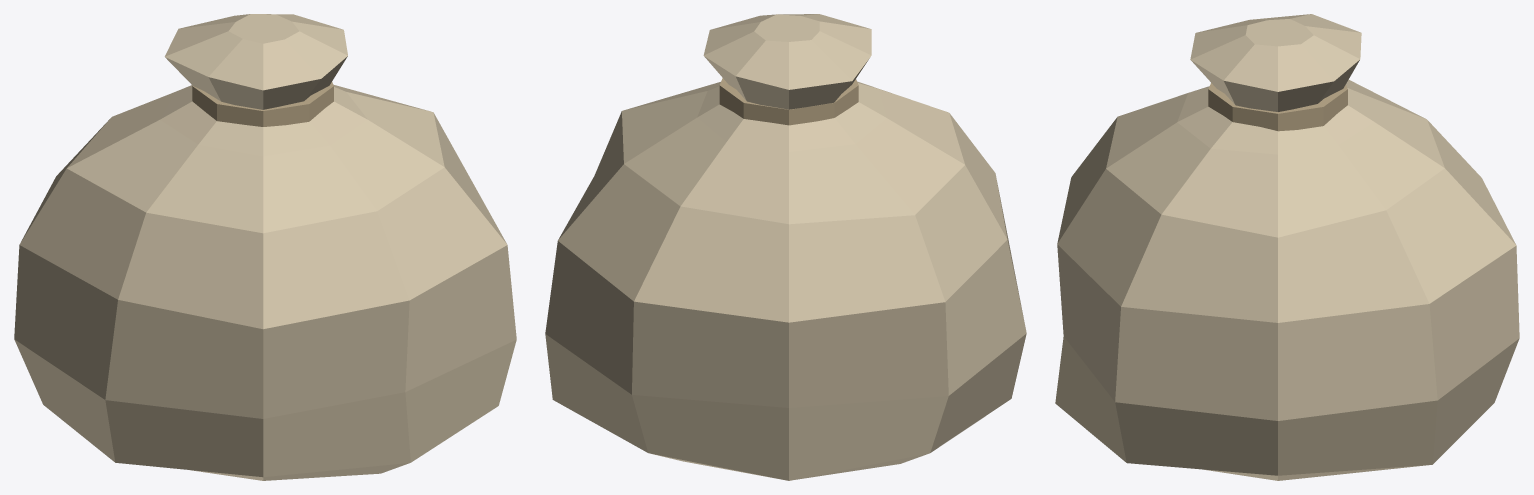
Rendered from Sack.fbx.
The picture shows the model from 3 angles, left to right: view 1: azimuth 30°, elevation 25°; view 2: azimuth 150°, elevation 25°; view 3: azimuth 270°, elevation 25°; orthographic projection.
Visible parts, largest first — view 1: Sack; view 2: Sack; view 3: Sack.
Boxes of the visible parts, box(x1,y1,x2,y2) form: Sack: box(14, 14, 516, 480); Sack: box(545, 14, 1026, 480); Sack: box(1055, 14, 1519, 480).
Bounding box in the file's own units: 0.8348 × 0.74 × 0.8198.
